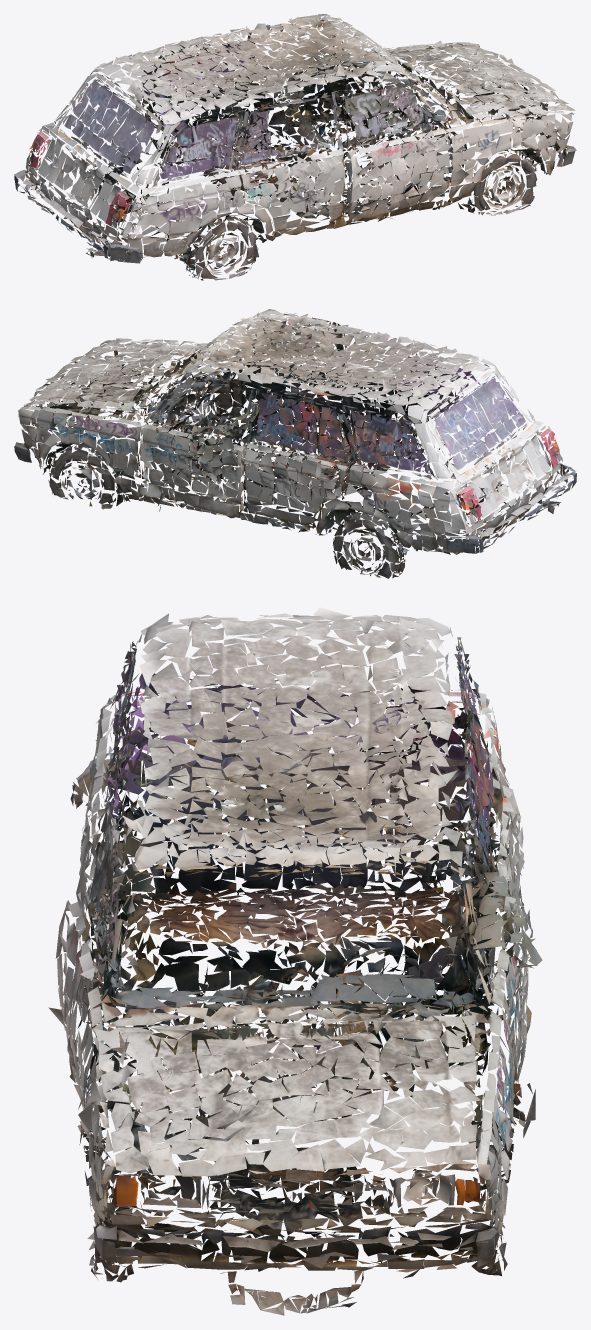
The model's file is vaz_parked.glb.
The picture shows the model from 3 angles, top to bottom: view 1: azimuth 30°, elevation 25°; view 2: azimuth 150°, elevation 25°; view 3: azimuth 270°, elevation 25°; orthographic projection. The views are drawn at different scales.
Parts seen in each view (by area): view 1: vaz_parked; view 2: vaz_parked; view 3: vaz_parked.
Part boxes in pixels (bbox=[...]): vaz_parked: bbox=[14, 14, 576, 280]; vaz_parked: bbox=[14, 309, 576, 578]; vaz_parked: bbox=[48, 607, 542, 1315].
Size of the model in its own units: 4.27 by 1.54 by 1.9.
1 material, 1 textured.
